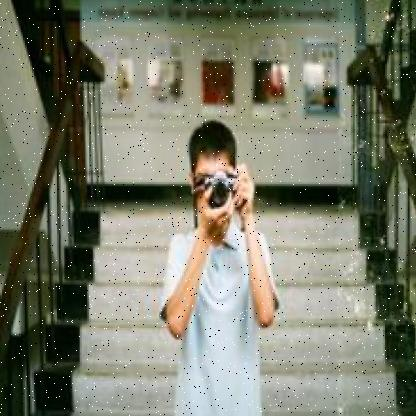stair_up: (51, 280, 354, 416)
